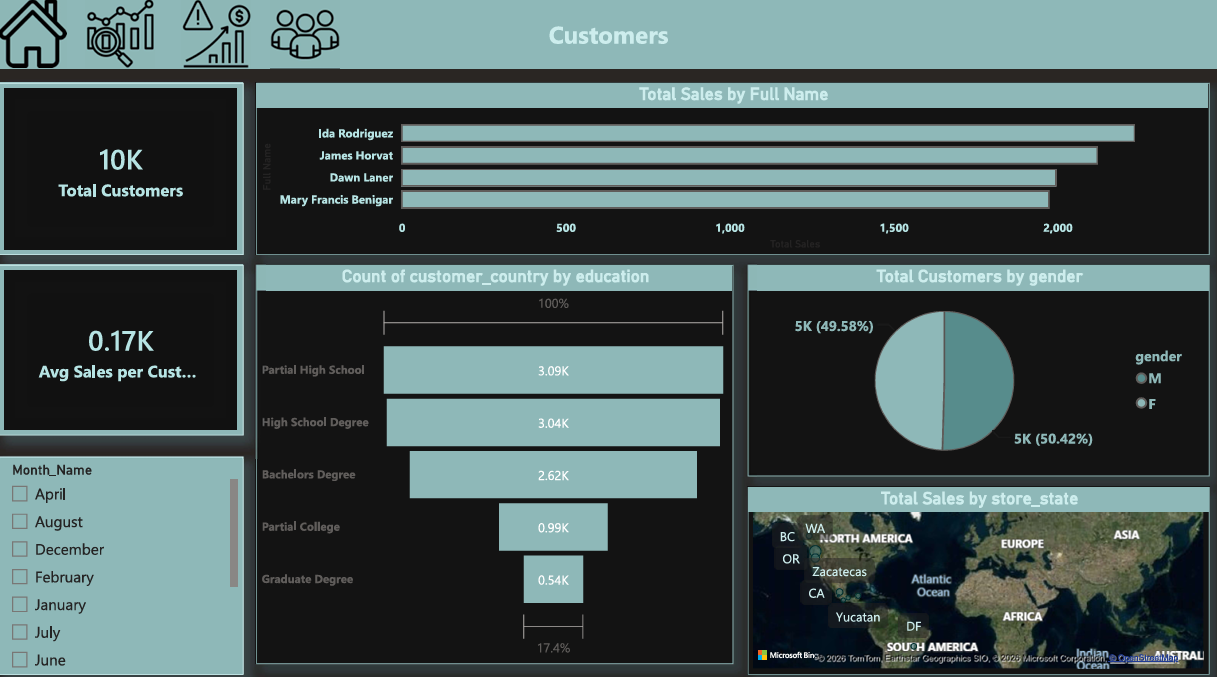

The dashboard page shown, as its layout file describes it:
{"tool":"powerbi","page":{"name":"customer","canvas":[1280,720],"ordinal":3},"visuals":[{"type":"shape","box":[0,0,1280.3,72.7],"z":0},{"type":"cardVisual","fields":{"Data":["Measure.Total Customers"]},"box":[0,87.8,256.6,181.1],"z":1000},{"type":"slicer","fields":{"Values":["Calender.Month_Name"]},"box":[0,480.3,256.6,229.2],"z":3000},{"type":"barChart","fields":{"Category":["Customers.Full Name"],"Y":["Measure.Total Sales"]},"box":[270.3,87.8,1000.3,181.1],"z":4000},{"type":"pieChart","fields":{"Category":["Customers.gender"],"Y":["Measure.Total Customers"]},"box":[786.3,278.6,484.4,222.3],"z":5000},{"type":"funnel","fields":{"Category":["Customers.education"],"Y":["CountNonNull(Customers.customer_country)"]},"box":[270.3,278.6,500.9,419.9],"z":6000},{"type":"map","fields":{"Category":["Stores.store_state"],"Size":["Measure.Total Sales"]},"box":[786.3,511.8,484.4,197.6],"z":7000},{"type":"image","box":[0,0,71.4,72.7],"z":8000},{"type":"image","box":[79.6,0,94.7,72.7],"z":9000},{"type":"image","box":[186.6,0,83.7,72.7],"z":10000},{"type":"image","box":[270.3,1.4,102.9,72.7],"z":11000},{"type":"cardVisual","fields":{"Data":["Measure.Average Sales per Customer"]},"box":[0,278.6,256.6,179.8],"z":11001}]}

Visuals, with their boxes in screenshot pixels (x1, y1, x2, y2), scaled from the page's 1280x720 canvas onto the 1217x677 screenshot:
shape: rect(0, 0, 1216, 68)
cardVisual - Measure.Total Customers: rect(0, 83, 244, 253)
slicer - Calender.Month_Name: rect(0, 452, 244, 667)
barChart - Customers.Full Name x Measure.Total Sales: rect(257, 83, 1208, 253)
pieChart - Customers.gender x Measure.Total Customers: rect(748, 262, 1208, 471)
funnel - Customers.education x CountNonNull(Customers.customer_country): rect(257, 262, 733, 657)
map - Stores.store_state x Measure.Total Sales: rect(748, 481, 1208, 667)
image: rect(0, 0, 68, 68)
image: rect(76, 0, 166, 68)
image: rect(177, 0, 257, 68)
image: rect(257, 1, 355, 70)
cardVisual - Measure.Average Sales per Customer: rect(0, 262, 244, 431)
